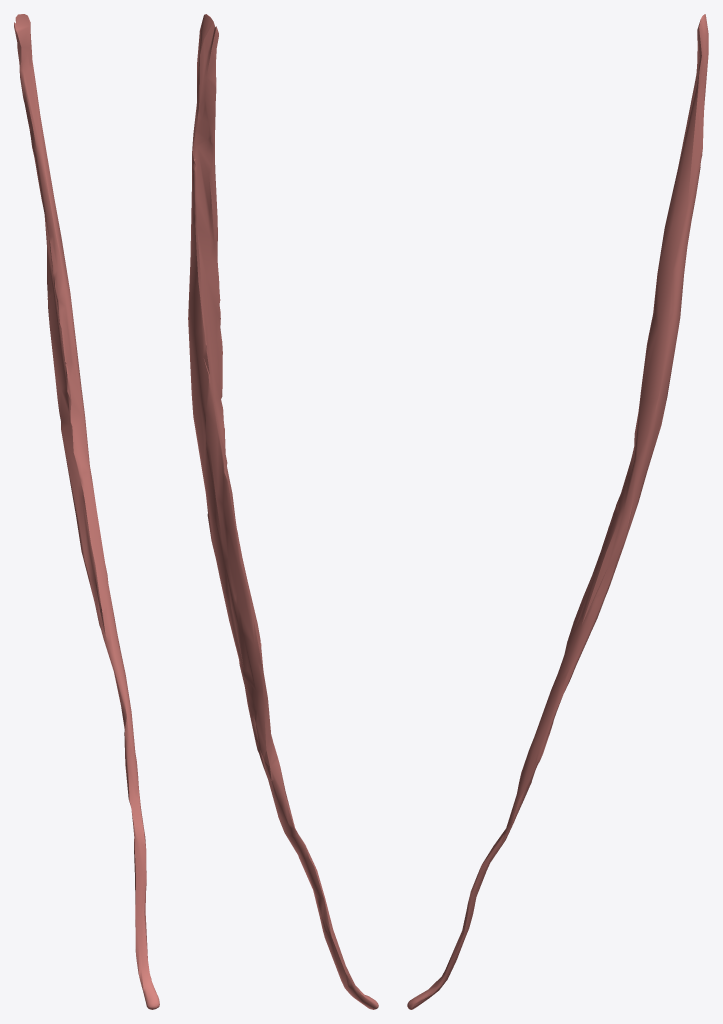
The model's file is fma38505_fj1491m.glb.
3 views of the same model, side by side, from view 1: azimuth 30°, elevation 25°; view 2: azimuth 150°, elevation 25°; view 3: azimuth 270°, elevation 25° (orthographic). The views are drawn at different scales.
Visible parts, largest first — view 1: FMA38505_FJ1491M; view 2: FMA38505_FJ1491M; view 3: FMA38505_FJ1491M.
Boxes of the visible parts, x1,y1,x2,y2 form: FMA38505_FJ1491M: (14,14,159,1009); FMA38505_FJ1491M: (188,14,378,1009); FMA38505_FJ1491M: (407,14,708,1009).
Bounding box in the file's own units: 0.0162 × 0.325 × 0.0893.
